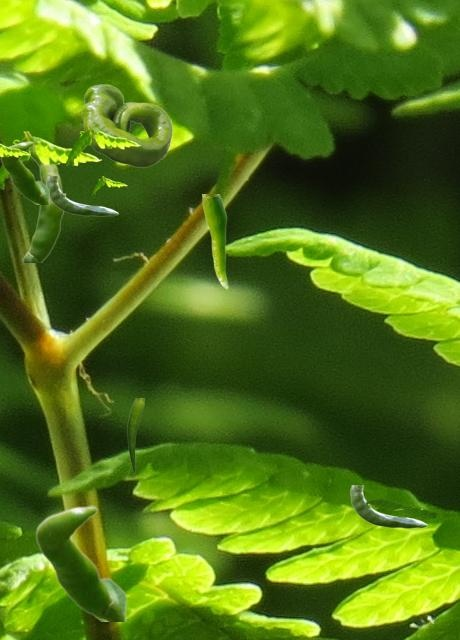green_chili: (35, 505, 125, 620), (81, 84, 171, 166), (22, 151, 64, 261), (350, 485, 426, 527), (0, 141, 48, 203), (46, 176, 117, 215), (202, 194, 227, 288), (127, 398, 143, 472)
